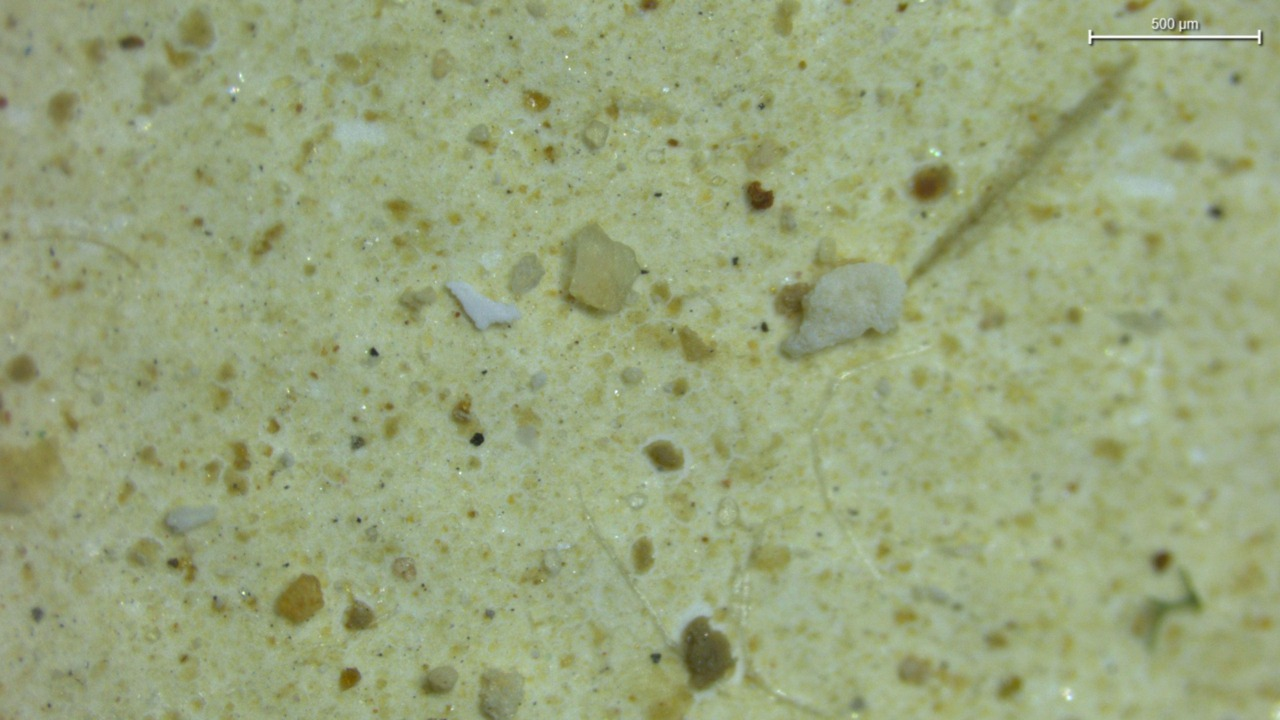microplastic_fragment: (781, 263, 907, 356), (567, 223, 642, 312), (446, 281, 521, 330), (478, 668, 524, 720), (276, 574, 323, 624), (165, 505, 217, 533)
